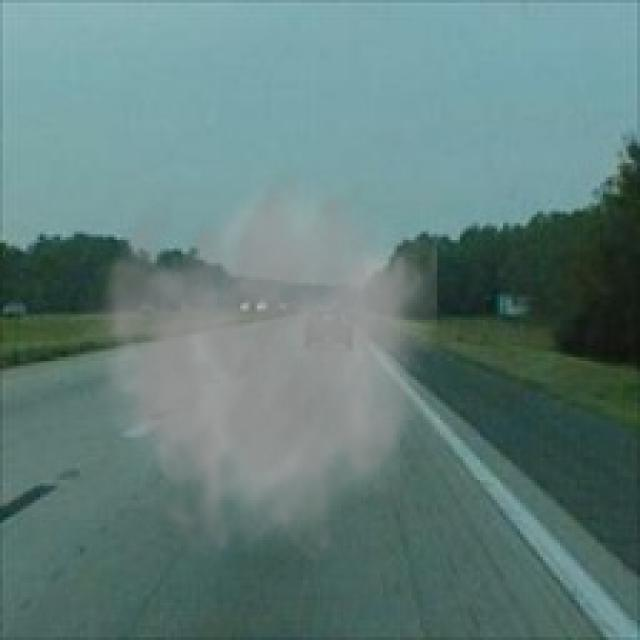smoke: (69, 163, 437, 566)
